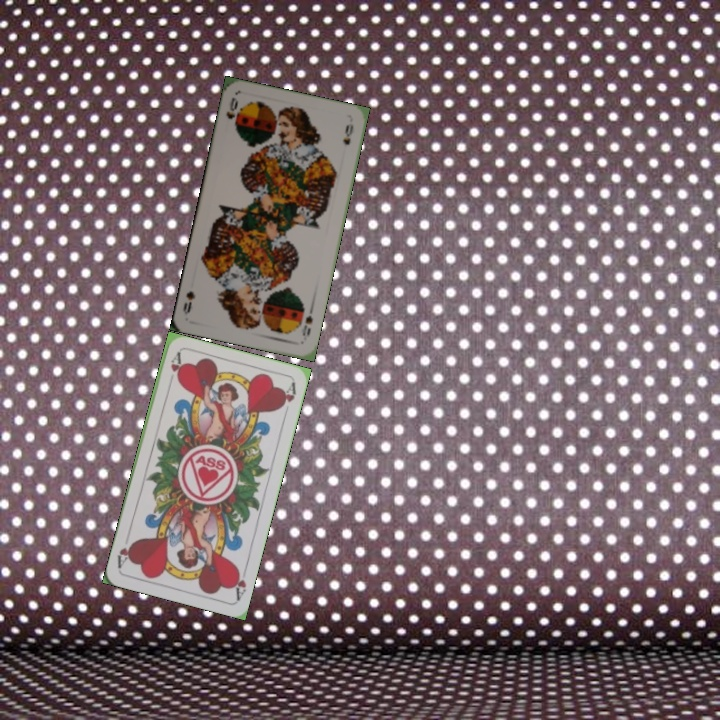HA: (229, 562, 250, 602), (165, 349, 184, 389)
SO: (297, 303, 316, 343), (222, 93, 241, 128)
